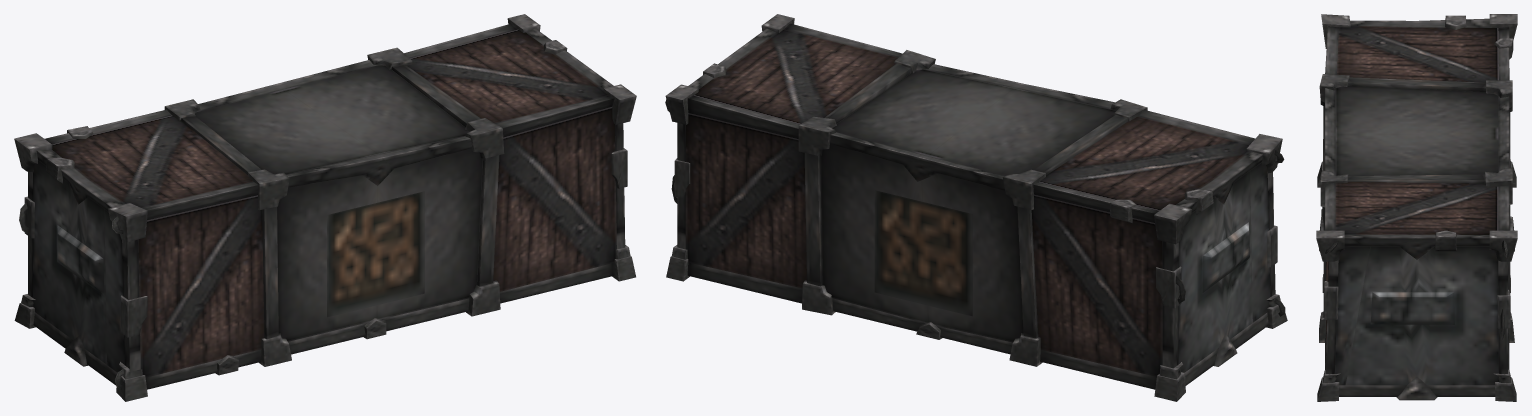
The model's file is SM_zhucheng_muxiang03.FBX.
The picture shows the model from 3 angles, left to right: view 1: azimuth 30°, elevation 25°; view 2: azimuth 150°, elevation 25°; view 3: azimuth 270°, elevation 25°; orthographic projection. The views are drawn at different scales.
Visible parts, largest first — view 1: SM_zhucheng_muxiang03; view 2: SM_zhucheng_muxiang03; view 3: SM_zhucheng_muxiang03.
Part boxes in pixels (x1,y1,x2,y2): SM_zhucheng_muxiang03: [14, 14, 636, 401]; SM_zhucheng_muxiang03: [665, 14, 1287, 401]; SM_zhucheng_muxiang03: [1316, 14, 1517, 401].
Bounding box in the file's own units: 99.37 × 33.27 × 36.85.
